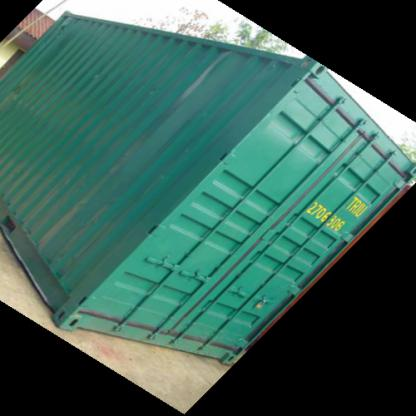Damage: (22, 178, 116, 271), (2, 76, 52, 128), (146, 74, 162, 98), (86, 60, 105, 80)
